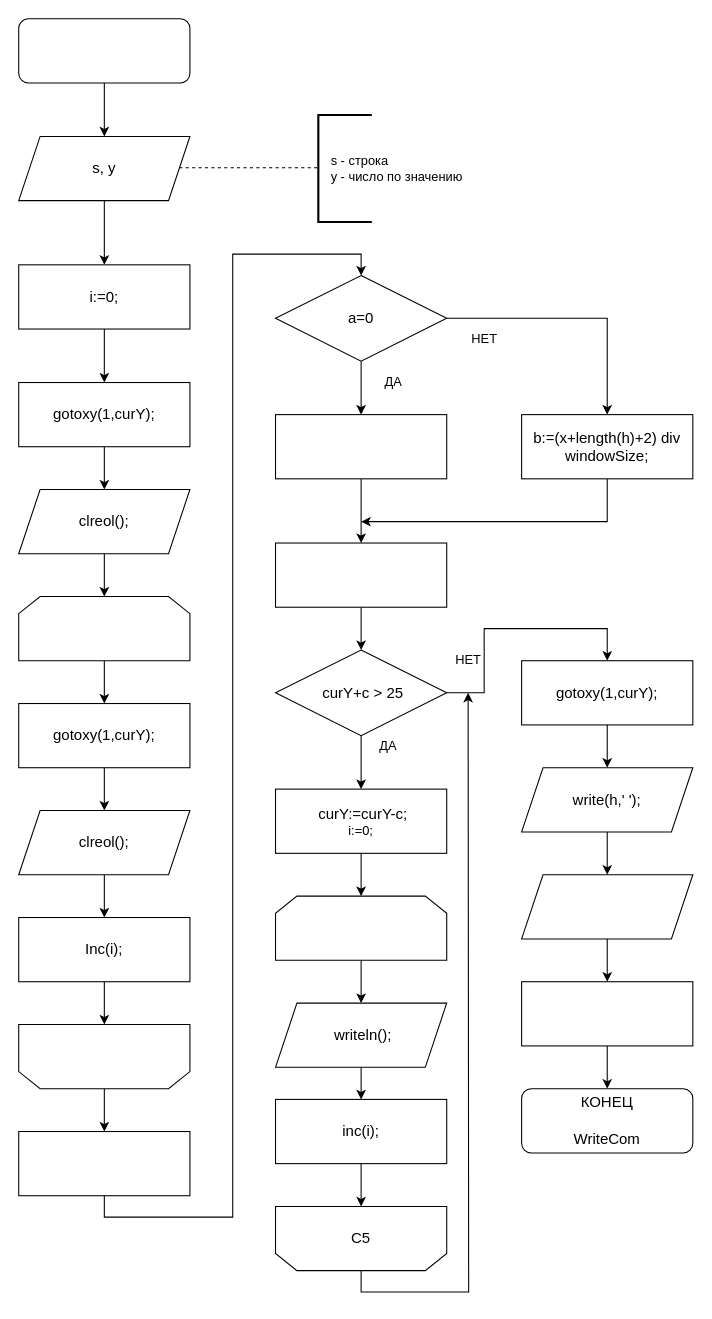
Image size: 712x1319. Some labels were removed from this diagram. Each missing label, with the centre of its shape:
"a:=(x+length(h)+2) mod windowSize;" goes at [104,1163].
"a:=x+length(h)+2; b:=0;" goes at [360,446].
"C4" goes at [104,1056].
"C4 i = y" goes at [104,628].
"C5 i = c" goes at [360,927].
"c:=(x+length(h)+3) div windowSize;" goes at [360,574].
"gotoxy(a,curY+b);" goes at [607,1013].
"write(s);" goes at [607,906].
"WriteCom НАЧАЛО" goes at [104,50].
